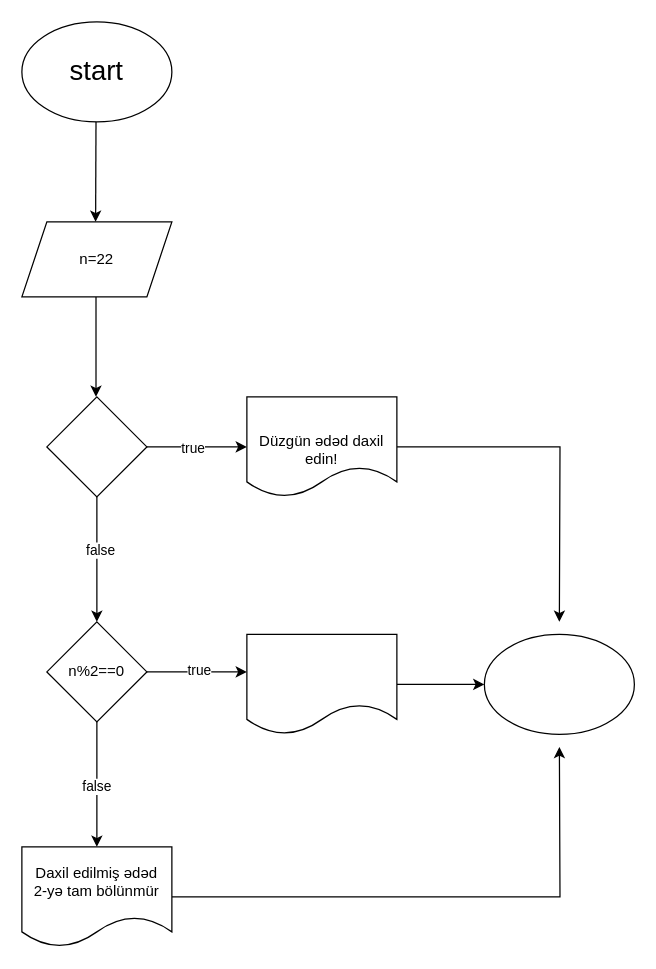
This 656x969 diagram has some shape labels left out. The centre of each missing label's shape, as x and y in pixels:
"Daxil edilmiş ədəd 2-yə tam bölünür" belongs at pixel 321 683.
"End" belongs at pixel 558 683.
"n<==0" belongs at pixel 96 446.
